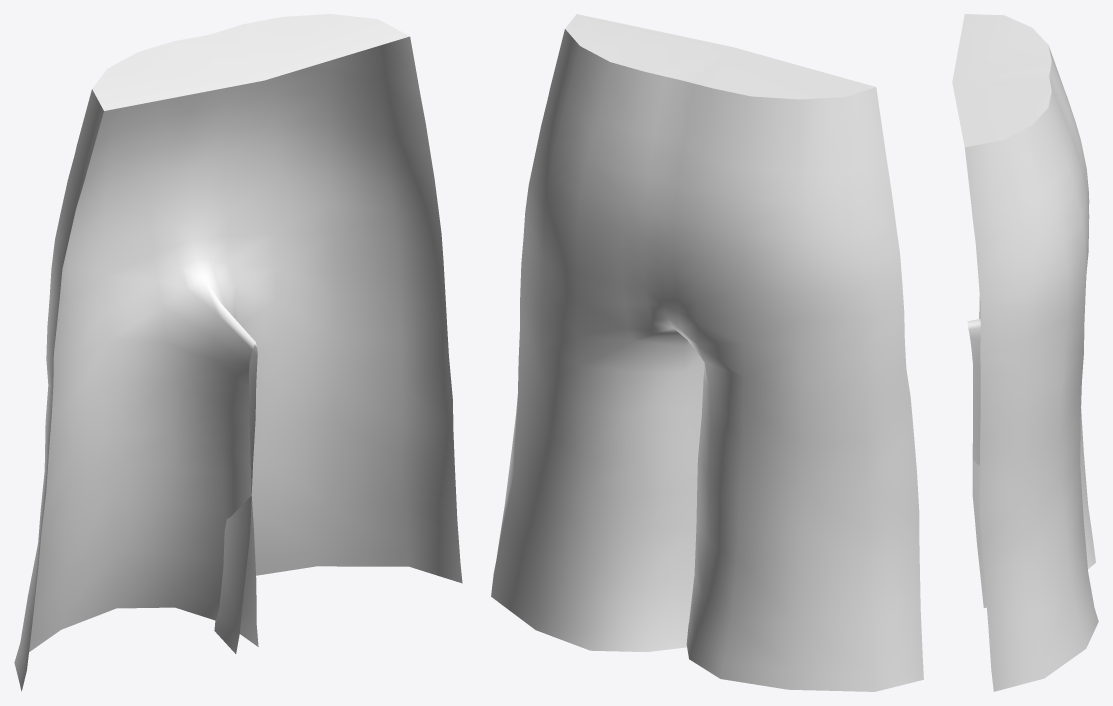
The model's file is M_Lower_Ugc_005_02_02_02.FBX.
3 renders of one model, left to right at view 1: azimuth 30°, elevation 25°; view 2: azimuth 150°, elevation 25°; view 3: azimuth 270°, elevation 25°, orthographic. The views are drawn at different scales.
Parts seen in each view (by area): view 1: M_Lower_Ugc_005_02_02_02; view 2: M_Lower_Ugc_005_02_02_02; view 3: M_Lower_Ugc_005_02_02_02.
Part boxes in pixels (x1=…): M_Lower_Ugc_005_02_02_02: x1=14, y1=14, x2=462, y2=691; M_Lower_Ugc_005_02_02_02: x1=491, y1=14, x2=923, y2=691; M_Lower_Ugc_005_02_02_02: x1=952, y1=14, x2=1098, y2=691.
Size of the model in its own units: 37.13 by 47.66 by 11.98.
1 material, 1 textured.
